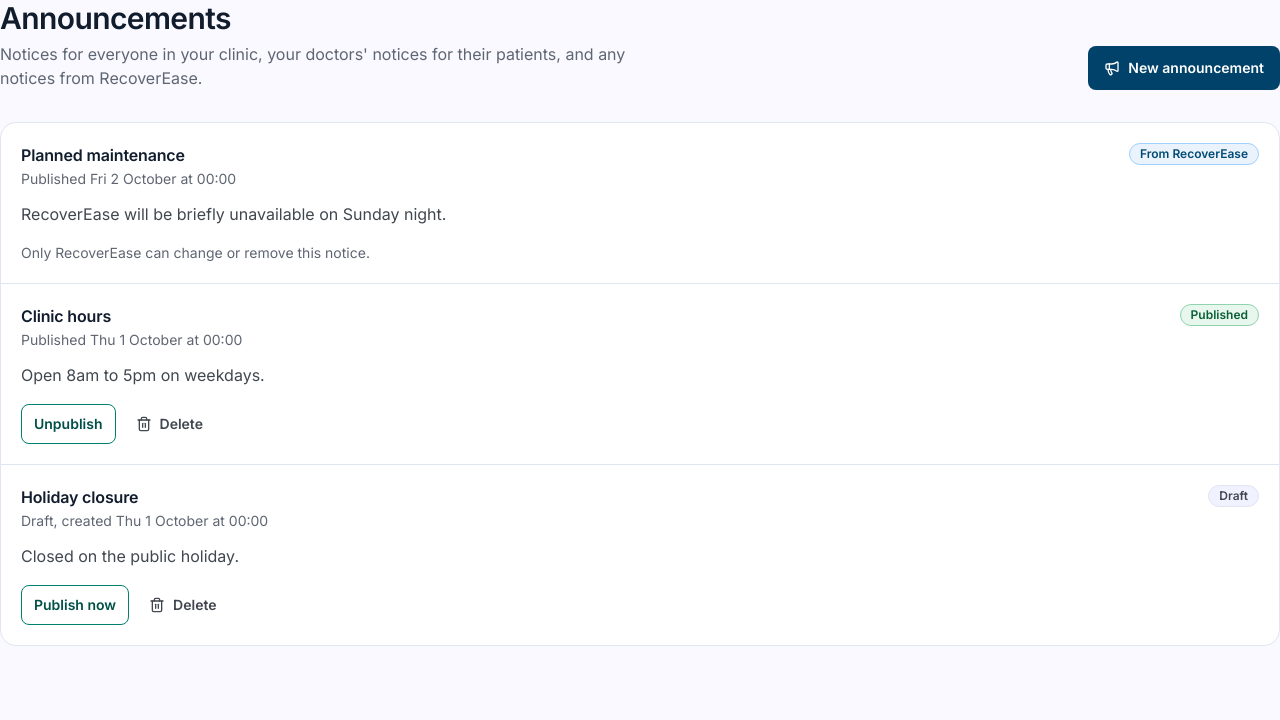
Test case: the Clinic Admin’s announcements › says so when a delete removed nothing, and leaves the announcement listed
Step 1. Click the button "Delete" below "Open 8am to 5pm on weekdays." → [169, 424], box [124, 404, 215, 444]
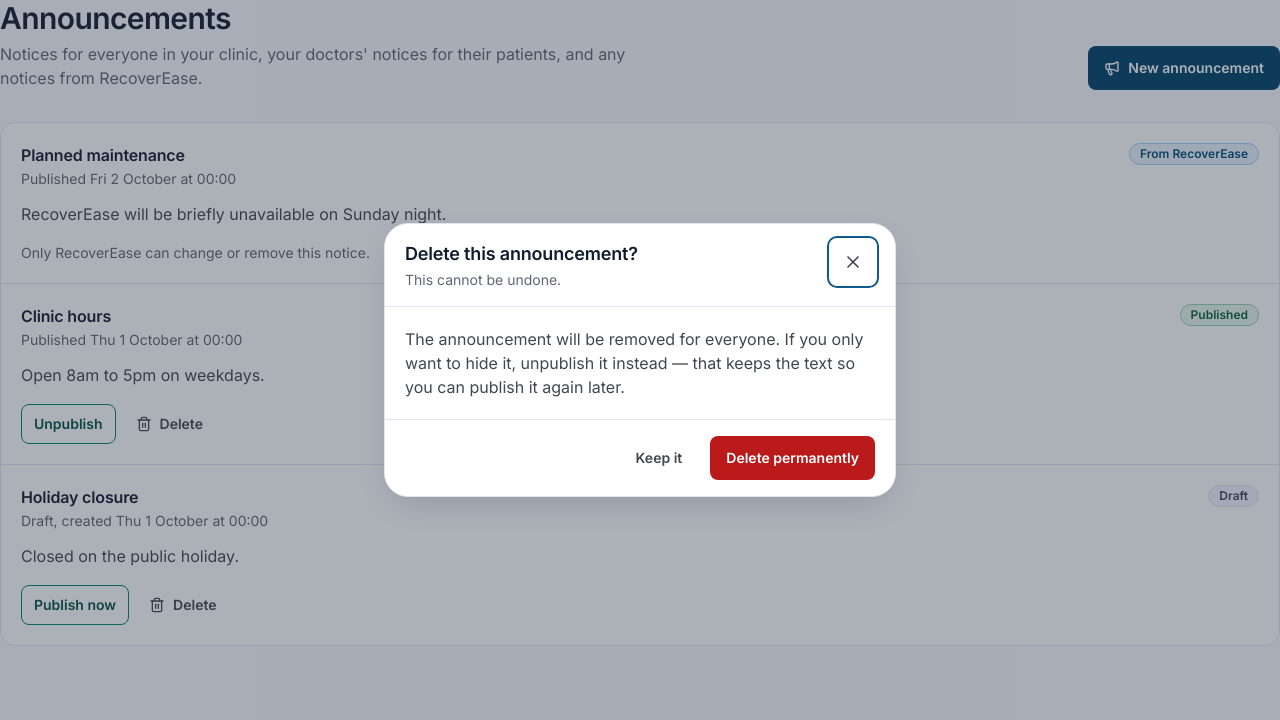
Step 2. Click the button "Delete permanently" → [793, 458], box [710, 436, 875, 480]
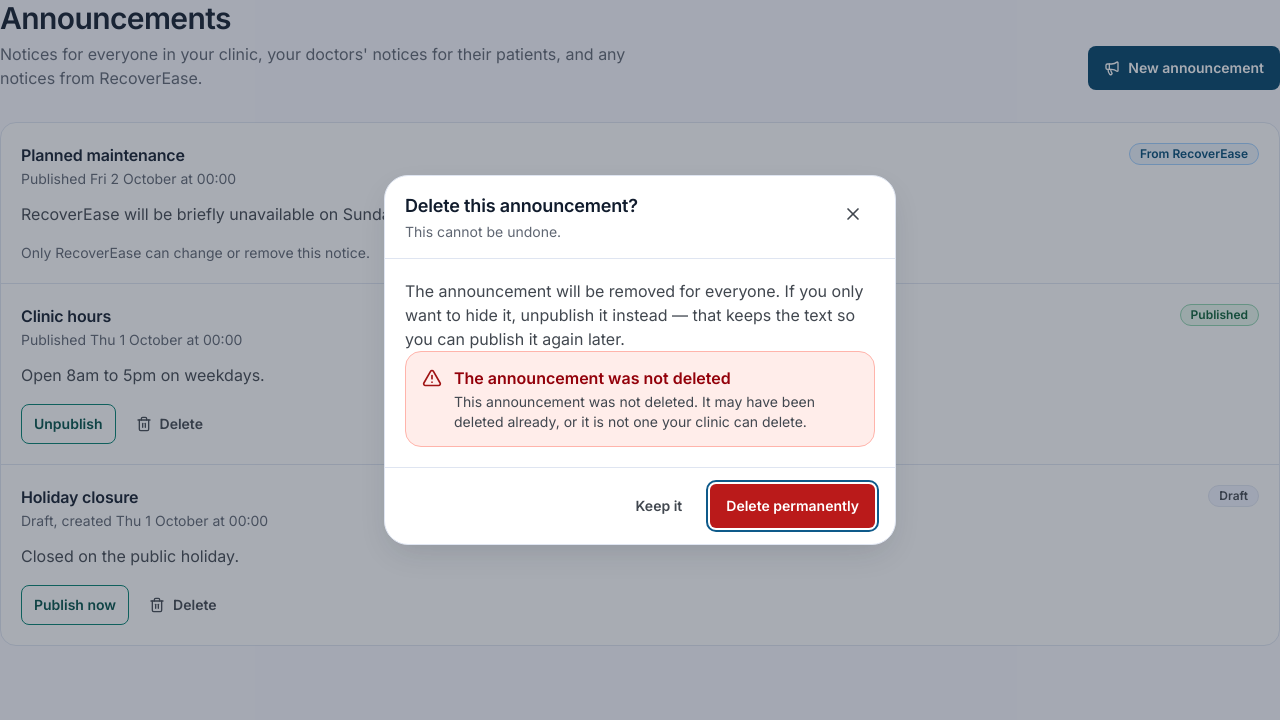
Check: the heading "Clinic hours" is shown, box [21, 306, 111, 326]
Check: the text "The announcement was not deleted" is shown, box [454, 368, 731, 388]
Check: the text "This announcement was not deleted. It may have been deleted already, or it is not one your clinic can delete." is shown, box [454, 393, 815, 430]
